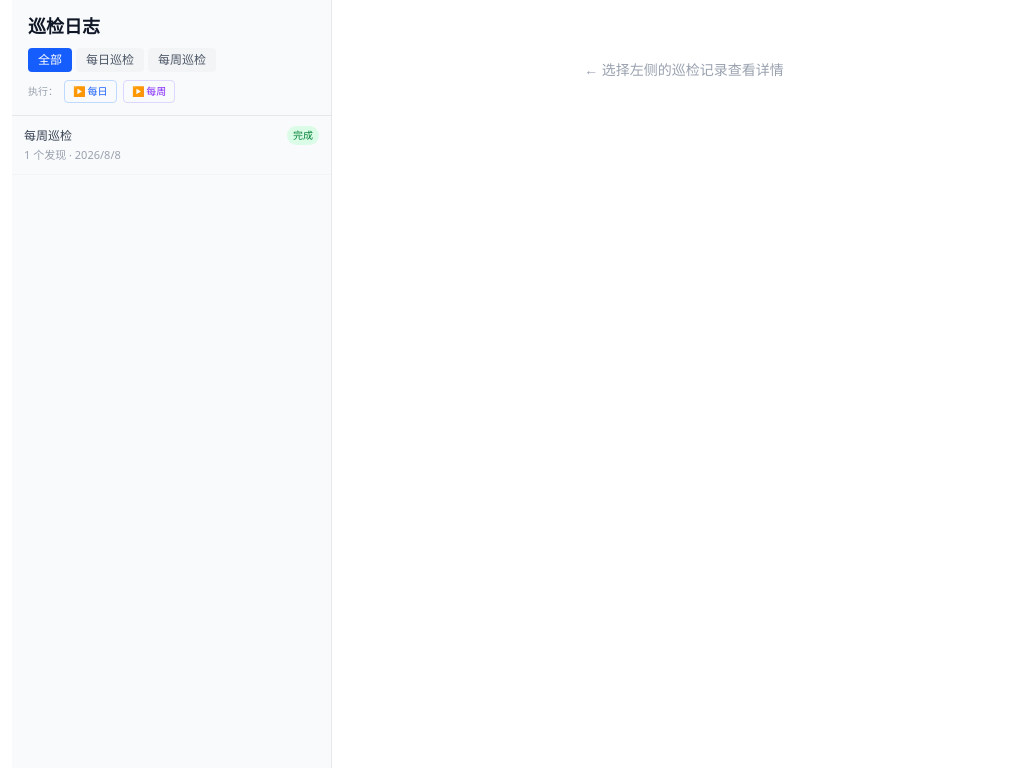
it: PatrolPage › queues a contradiction finding for arbitration from the card
Click the text "1 个发现 · 2026/8/8". click: point(72, 154)
box: [24,147,121,162]
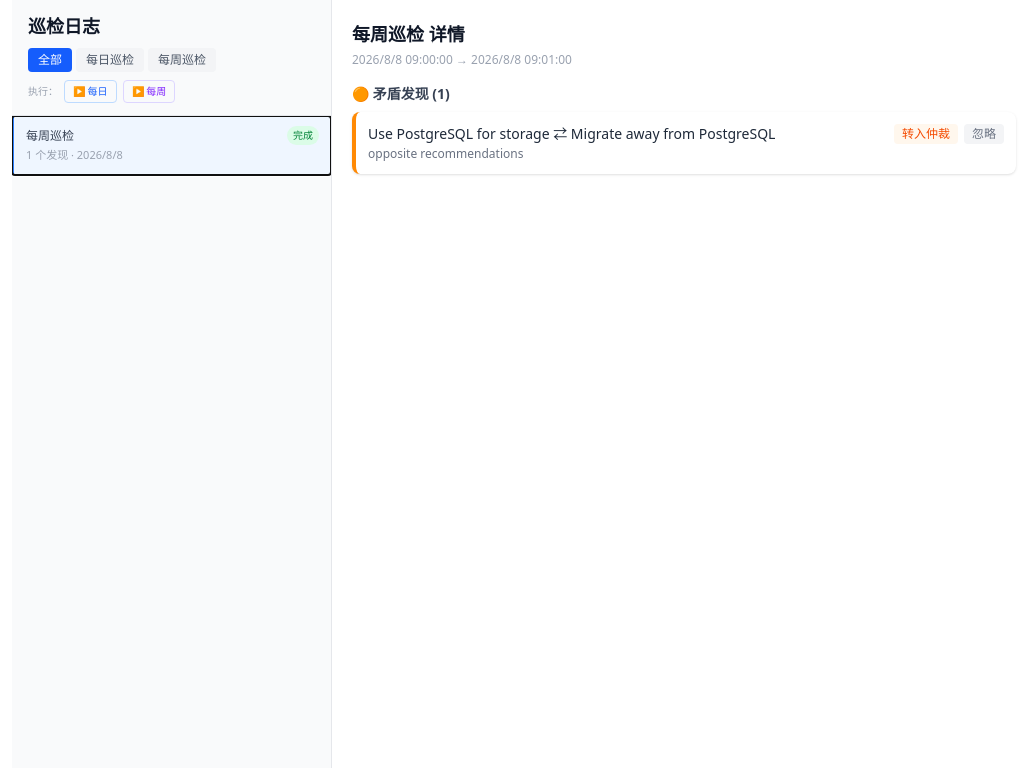
Check: the button "转入仲裁" is shown
Click the button "转入仲裁". click: point(926, 134)
box: [894,124,958,144]
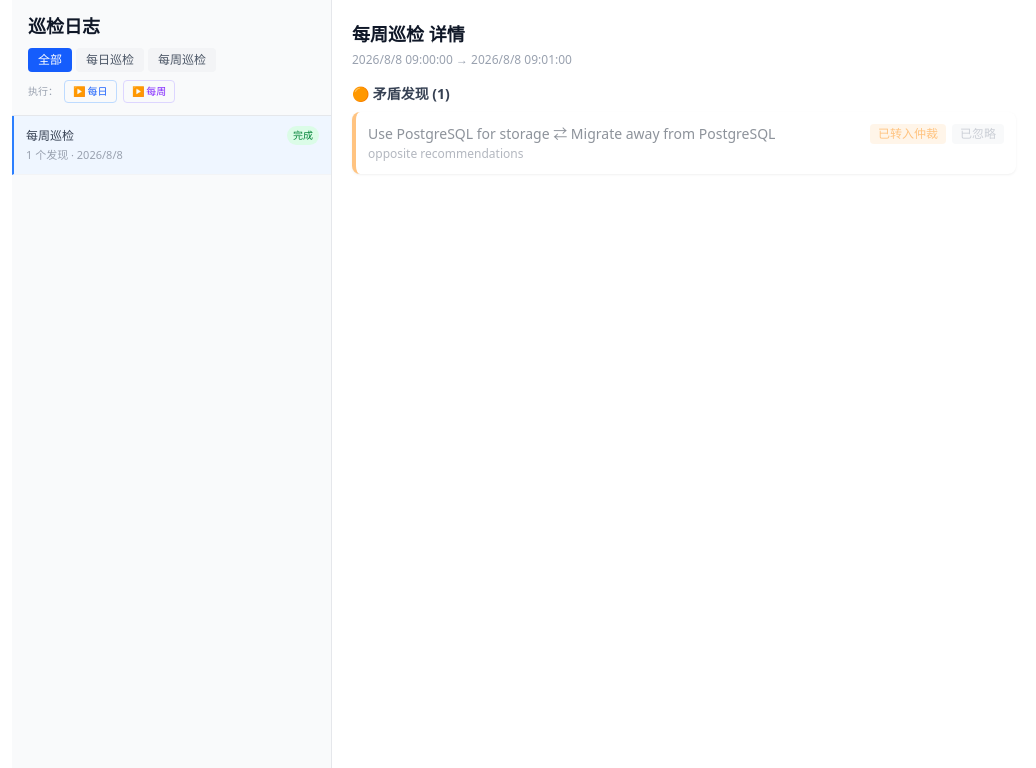
Check: the button "已转入仲裁" is shown, box [870,124,946,144]
